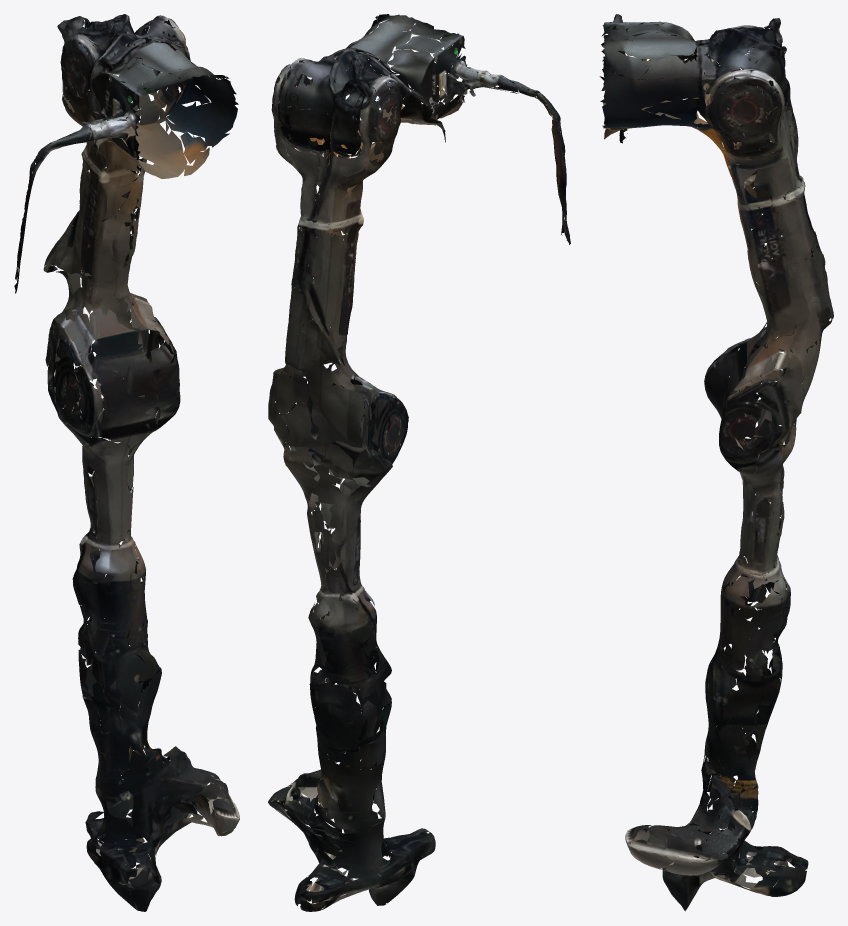
The model's file is arm.dae.
The picture shows the model from 3 angles, left to right: view 1: azimuth 30°, elevation 25°; view 2: azimuth 150°, elevation 25°; view 3: azimuth 270°, elevation 25°; orthographic projection.
Visible parts, largest first — view 1: arm; view 2: arm; view 3: arm.
Boxes of the visible parts, x1,y1,x2,y2 form: arm: (14,14,239,911); arm: (268,14,570,911); arm: (599,14,833,911).
Bounding box in the file's own units: 0.2316 × 0.1841 × 0.7663.
1 material, 1 textured.
